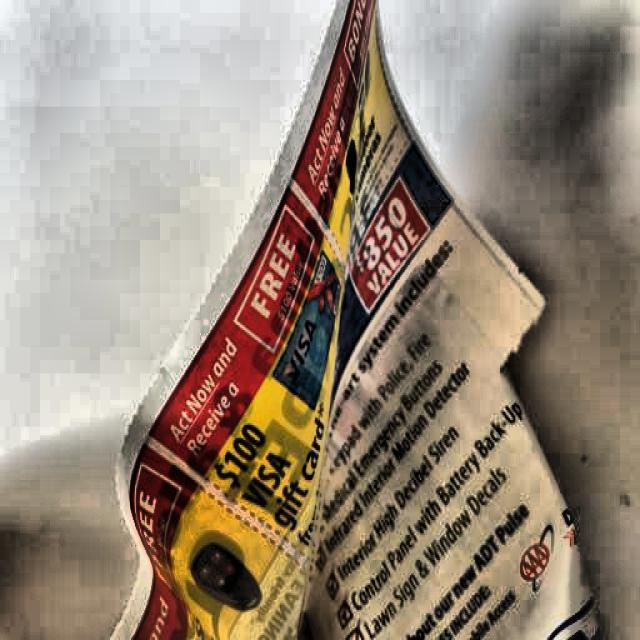paper: (119, 4, 606, 640)
